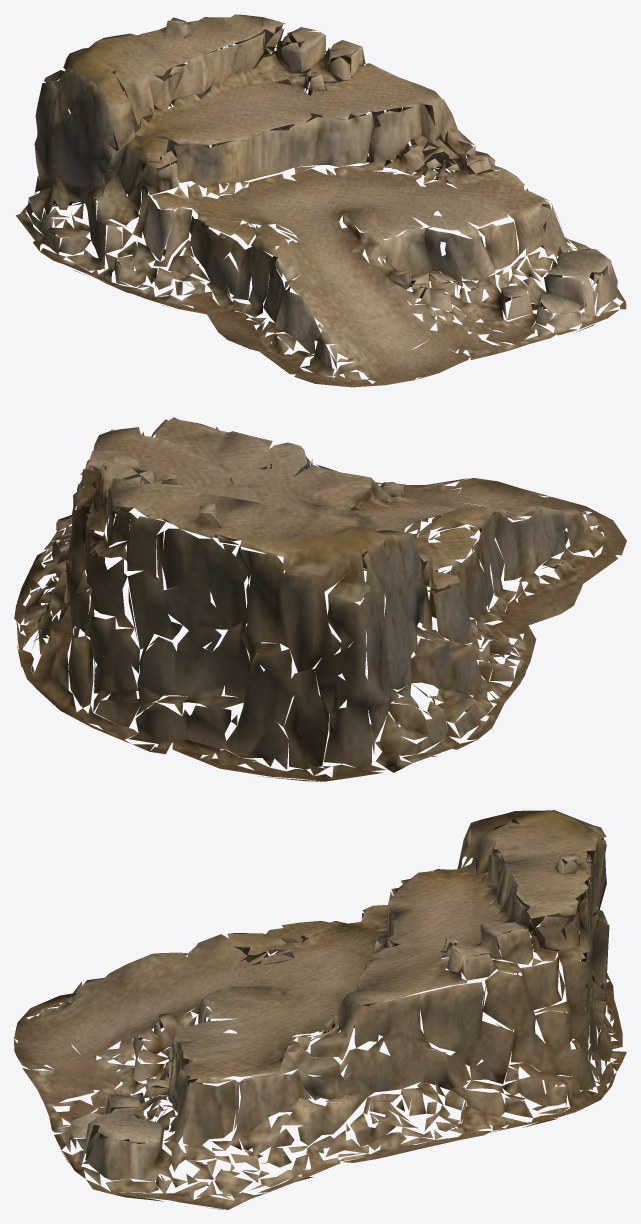
File: quarry_far.glb
3 renders of one model, top to bottom at view 1: azimuth 30°, elevation 25°; view 2: azimuth 150°, elevation 25°; view 3: azimuth 270°, elevation 25°, orthographic. The views are drawn at different scales.
Parts seen in each view (by area): view 1: model; view 2: model; view 3: model.
Part boxes in pixels (x1,y1,x2,y2): model: [16, 14, 626, 387]; model: [14, 417, 626, 781]; model: [14, 810, 626, 1209].
Size of the model in its own units: 0.9233 by 0.3785 by 0.9988.
Materials: 1 (1 with a texture image).
